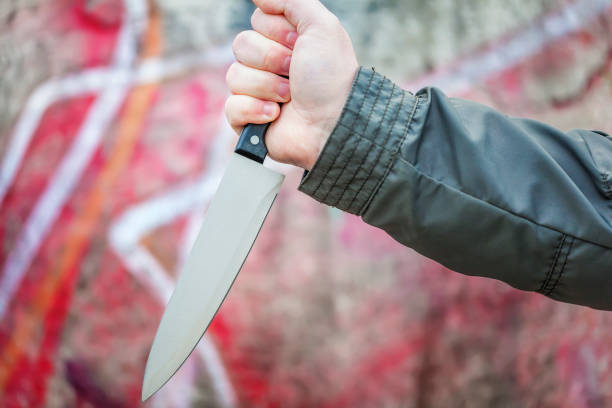knife: (139, 122, 288, 404)
